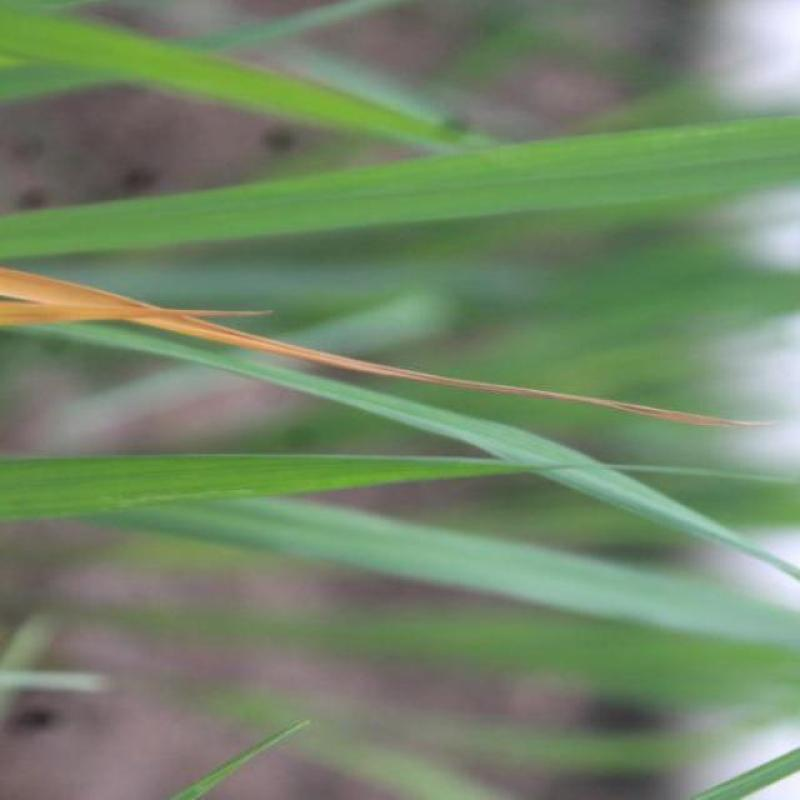Rice Tungro: (10, 260, 770, 446)
